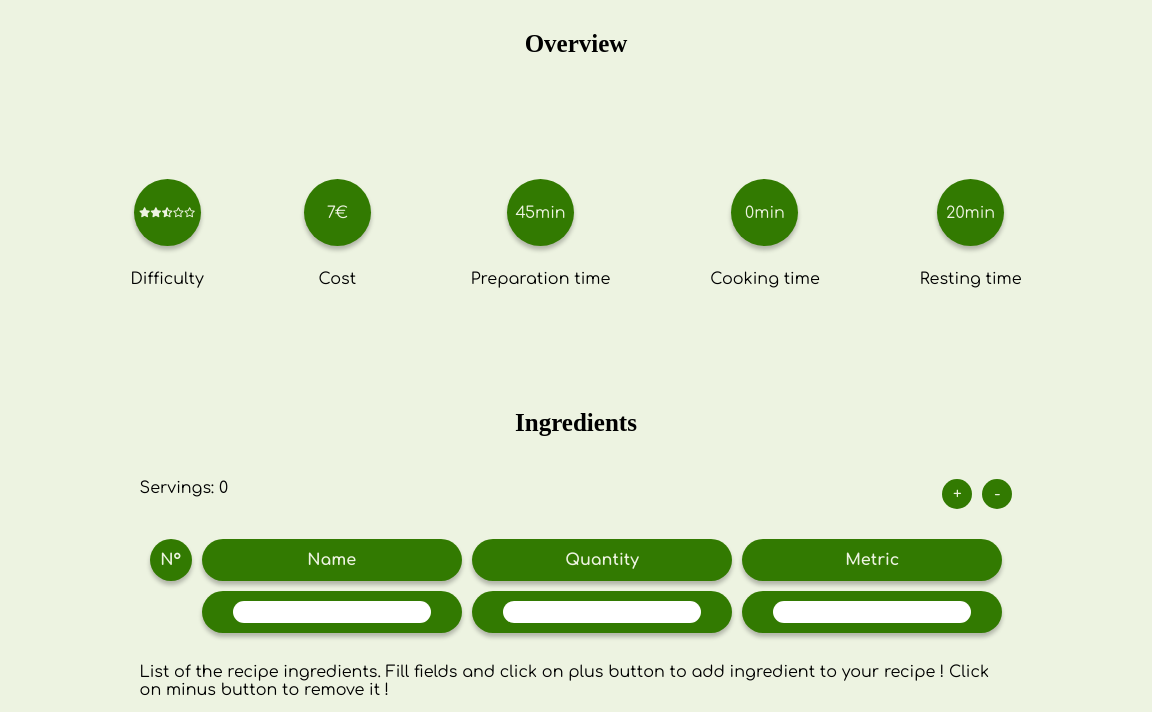
Test case: clicks on minus button to delete the last ingredient when no ingredient
The width and height of the screenshot is (1152, 712).
(page scrolled)
Step 1. Click the button with class "less-item" → (997, 494), box [982,479,1012,509]
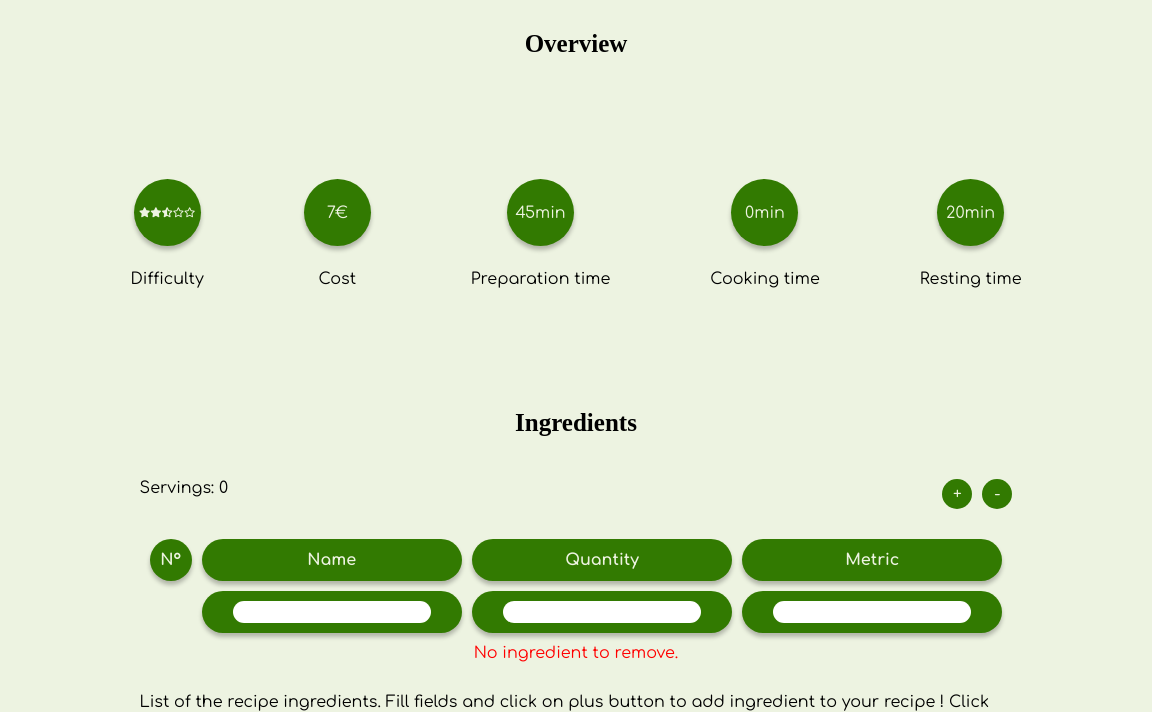
Check: the cell "No ingredient to remove." is shown, box [150,643,1002,663]
